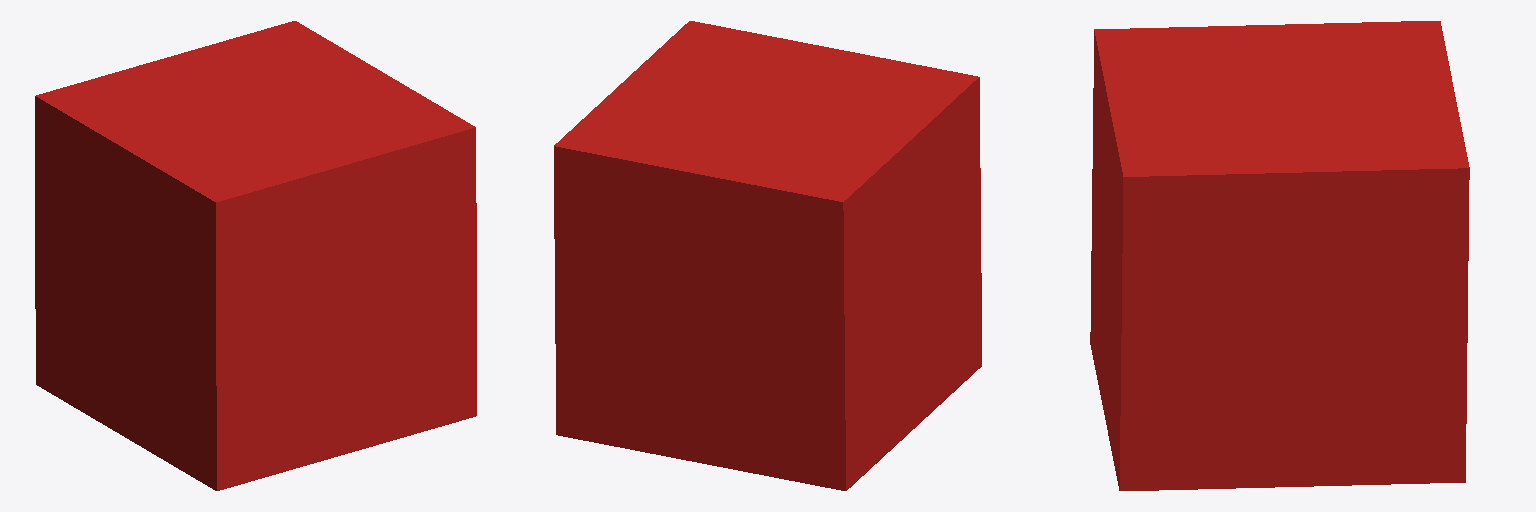
robot.urdf — cube1:
<?xml version="1.0" encoding="UTF-8"?>
<robot name="cube1">
  <link name="cube1_link">
    <visual>
      <origin xyz="0 0 0" rpy="0 0 0"/>
      <geometry>
        <mesh filename="../mano_assets/objects/cube1/cube1.obj" scale="0.001 0.001 0.001"/>
      </geometry>
      <material name="cube1_material">
        <color rgba="0.80 0.18 0.16 1.0"/>
      </material>
    </visual>
    <collision>
      <origin xyz="0 0 0" rpy="0 0 0"/>
      <geometry>
        <mesh filename="../mano_assets/objects/cube1/cube1.obj" scale="0.001 0.001 0.001"/>
      </geometry>
    </collision>
    <inertial>
      <origin xyz="0.005175592236 -0.005187185076 0.001516276923" rpy="0 0 0"/>
      <mass value="0.125"/>
      <inertia ixx="0.0001333333352" ixy="2.97890911e-13" ixz="-6.782344705e-13" iyy="0.0001333333353" iyz="-2.157039074e-13" izz="0.0001333333366"/>
    </inertial>
  </link>
</robot>

--- Render facts (derived) ---
3 views of the same robot in one strip: view 1: azimuth 30°, elevation 25°; view 2: azimuth 150°, elevation 25°; view 3: azimuth 270°, elevation 25° (orthographic).
Robot: cube1 — 1 links, 0 joints (none); root link cube1_link; default pose: every joint at zero.
Links seen in each view (by area): view 1: cube1_link; view 2: cube1_link; view 3: cube1_link.
Link boxes in pixels (box(x1,y1,x2,y2)): cube1_link: box(35, 21, 476, 490); cube1_link: box(554, 21, 981, 490); cube1_link: box(1090, 21, 1469, 490).
Bounding box of the posed robot: 0.0867 × 0.0873 × 0.0812 m (x, y, z).
1 mesh visuals loaded from 1 distinct referenced files (1 OBJ).
